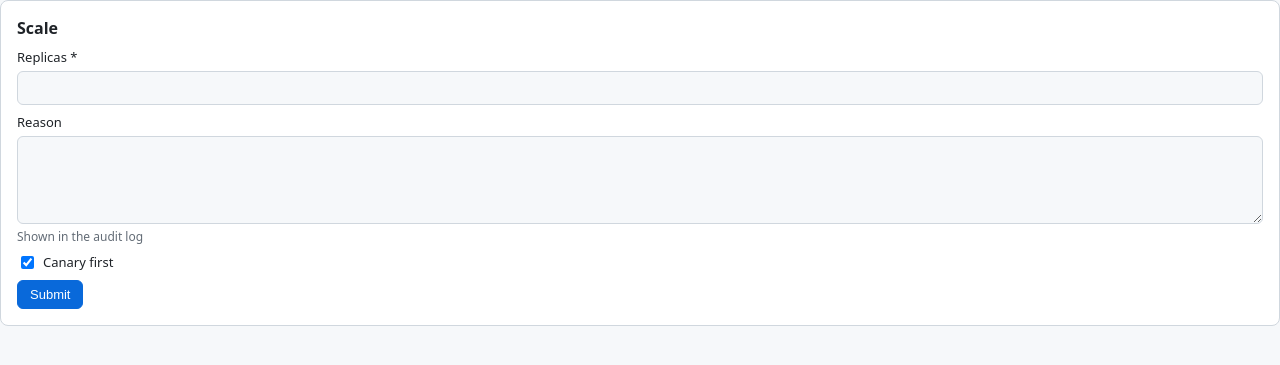
Test: dash.form and dash.button › validates, then submits typed values merged with the static payload
Click the button "Submit" at (50, 295), box [17,280,84,309]
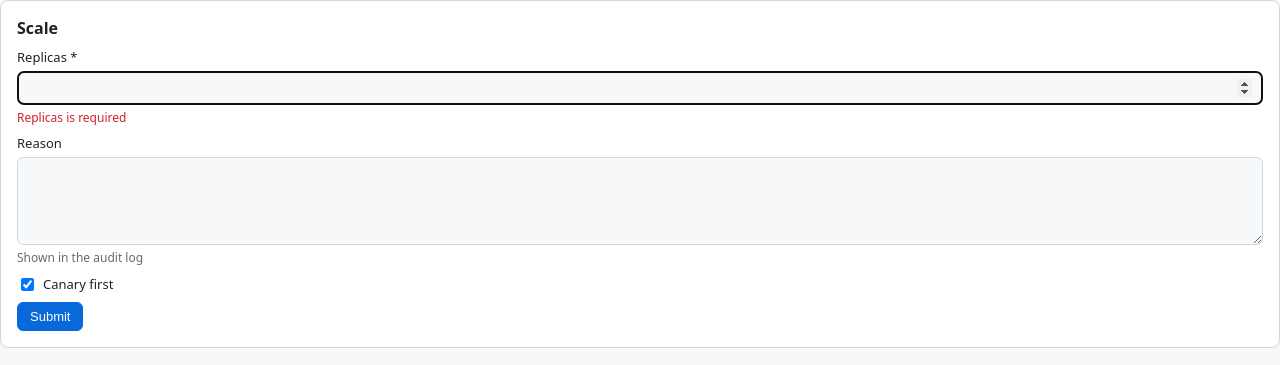
Check: the text "Replicas is required" is shown, box [17,109,126,126]
Type "50" into the number field labelled "Replicas *" at (640, 88), box [17,71,1263,105]
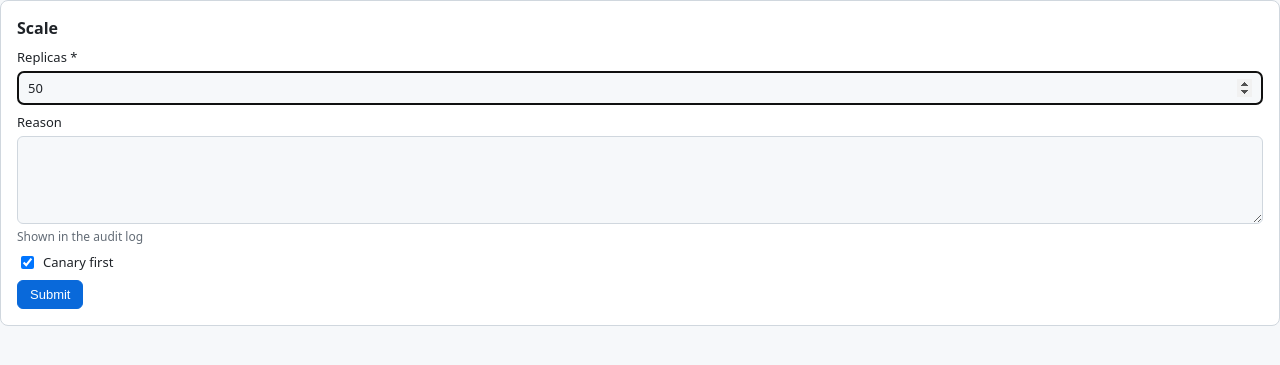
Click the button "Submit" at (50, 295), box [17,280,84,309]
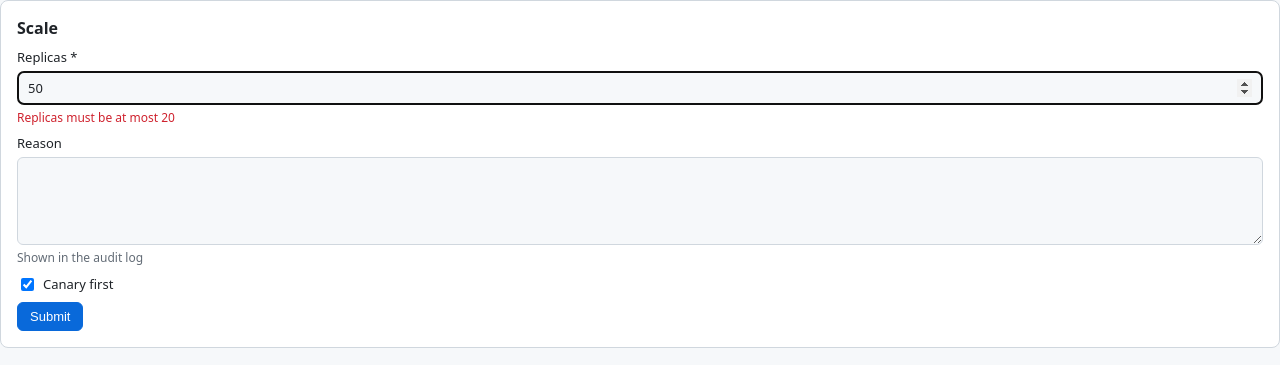
Check: the text "Replicas must be at most 20" is shown, box [17,109,175,126]
Replace the text in the number field labelled "Replicas *" with "4" at (640, 88), box [17,71,1263,105]
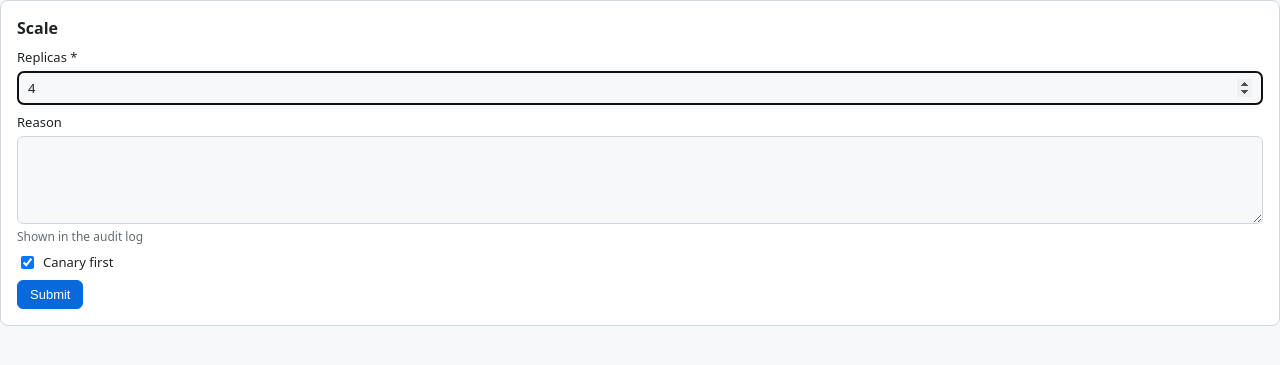
Click the button "Submit" at (50, 295), box [17,280,84,309]
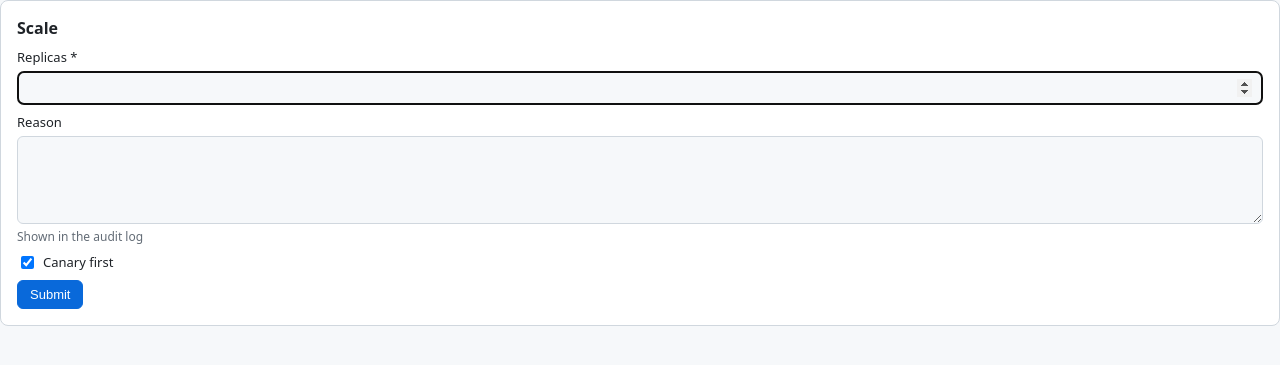
Check: the number field labelled "Replicas *" is not empty, box [17,71,1263,105]
